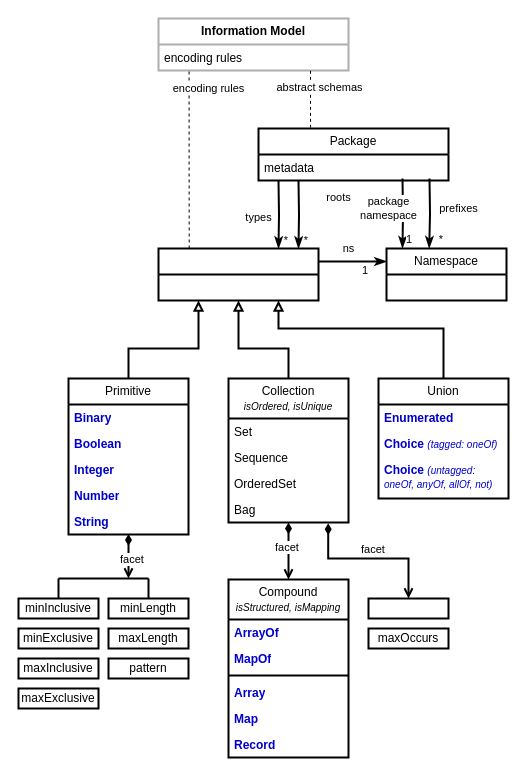
The diagram is 526 pixels wide and 777 high, and some of its shapes have lost their labels. Here are the shapes that lost their labels. From the top down, the centre of each, then its label:
[238,274]: DataType
[408,608]: minOccurs
